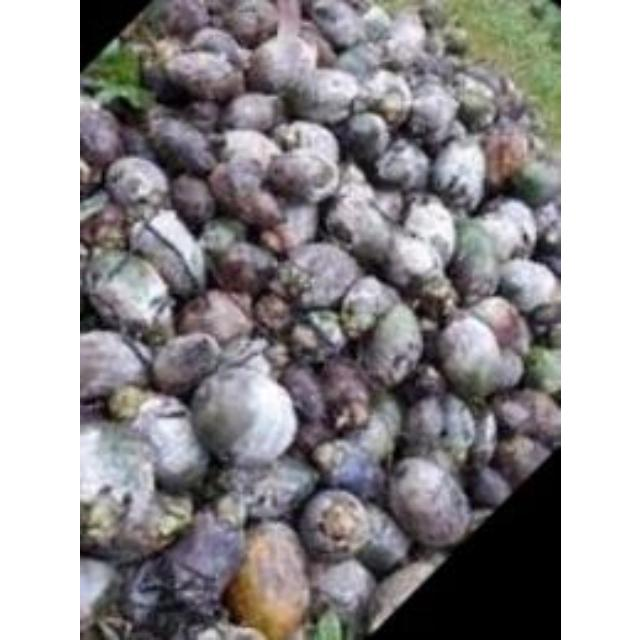damaged: (189, 358, 299, 469), (225, 523, 309, 639), (82, 250, 176, 338), (384, 456, 472, 548), (130, 393, 210, 493), (434, 313, 520, 401), (128, 210, 206, 300), (219, 455, 313, 521), (296, 488, 374, 562), (356, 300, 422, 386), (79, 330, 149, 406), (282, 242, 360, 310), (324, 184, 394, 256), (148, 330, 222, 396), (148, 112, 218, 180), (244, 30, 316, 96), (176, 290, 256, 348), (314, 360, 376, 434), (428, 139, 488, 213), (447, 218, 501, 300), (285, 67, 361, 125), (378, 230, 444, 296), (313, 439, 383, 498), (398, 196, 458, 264), (103, 154, 171, 213), (337, 275, 401, 337), (211, 238, 279, 296), (466, 296, 528, 358), (476, 198, 538, 260), (280, 306, 344, 364), (348, 394, 400, 464), (494, 259, 556, 317), (404, 82, 460, 142), (358, 68, 416, 124), (276, 120, 342, 168), (373, 140, 431, 194), (214, 128, 282, 174), (449, 70, 501, 130), (168, 173, 216, 227), (222, 91, 282, 132), (342, 111, 390, 162), (185, 27, 245, 67), (80, 201, 128, 249), (465, 407, 499, 471), (198, 218, 244, 258), (251, 292, 293, 334), (116, 118, 156, 160), (183, 98, 223, 134), (370, 190, 406, 222), (257, 226, 293, 258), (337, 162, 368, 192)
